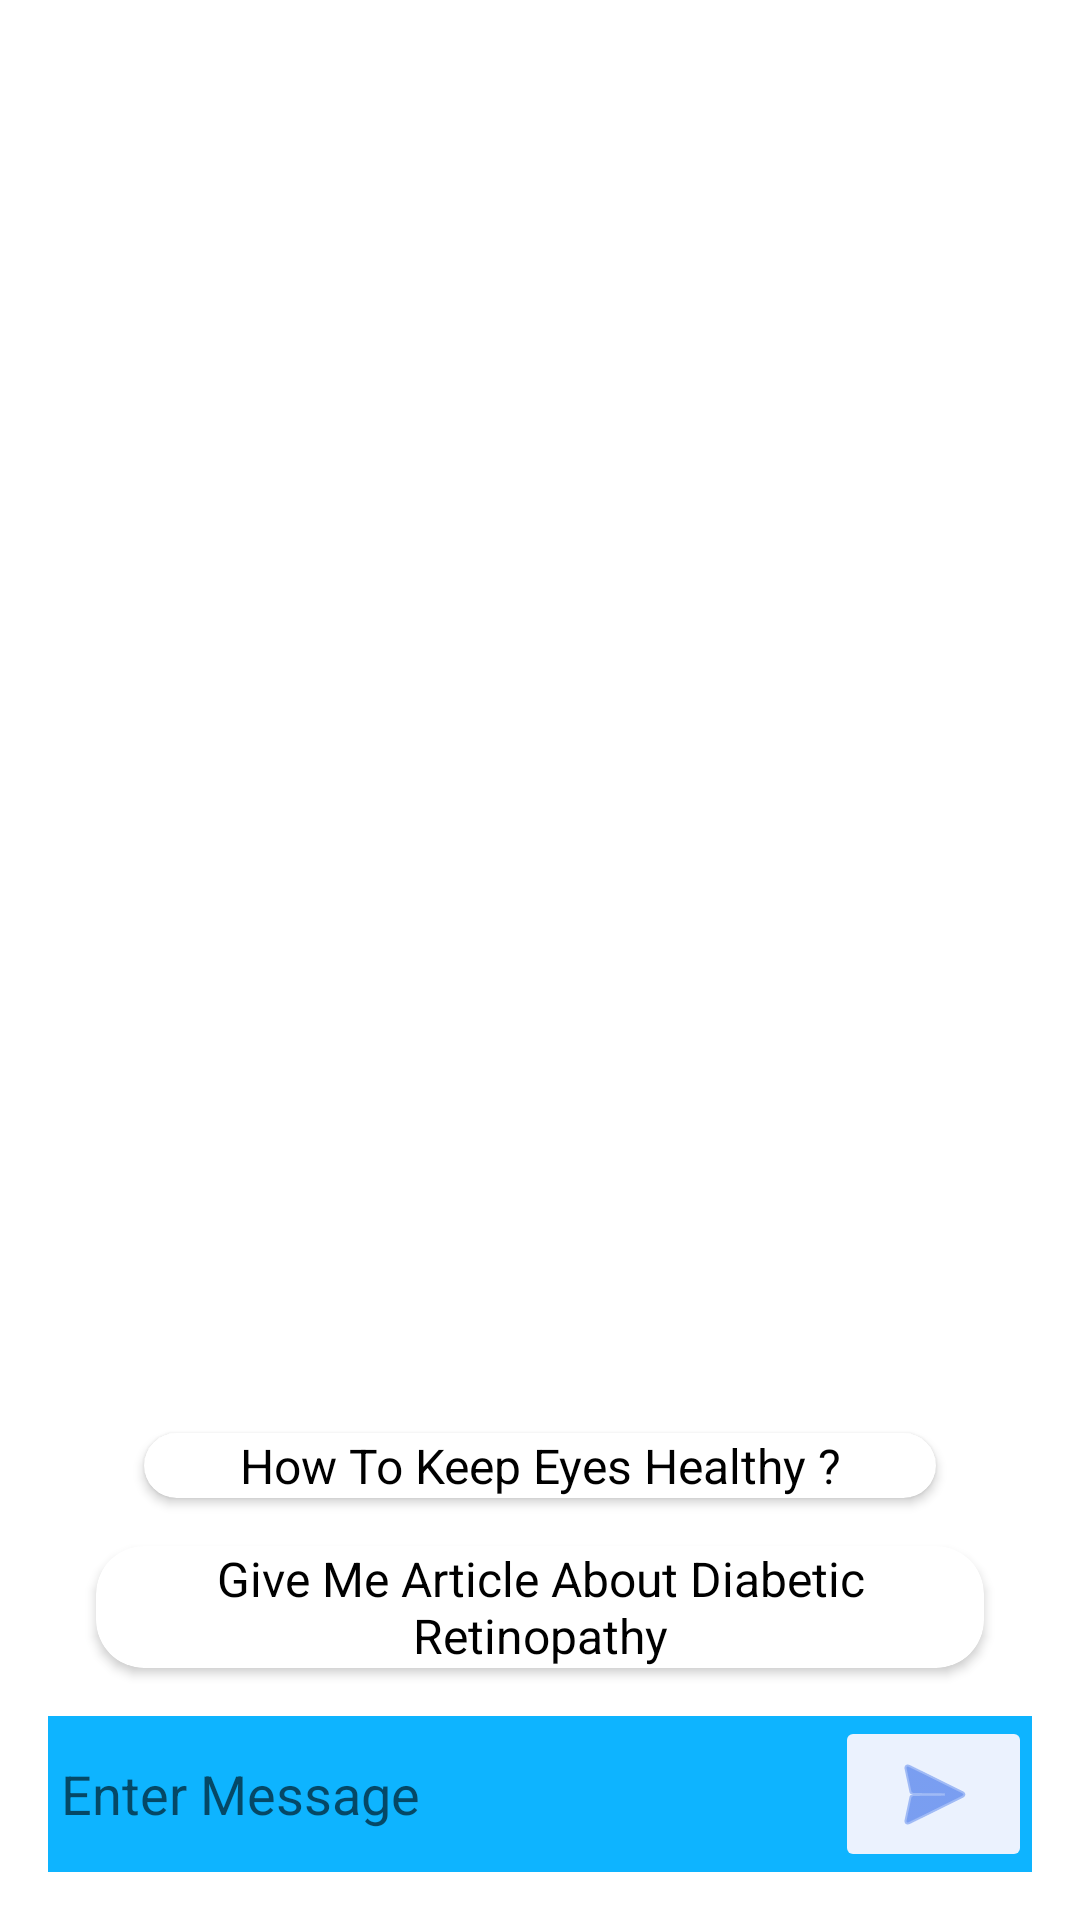

Icons on this 1080 x 1920 Android screen, each with the point to tap as [x,y]:
send: [933,1794]
